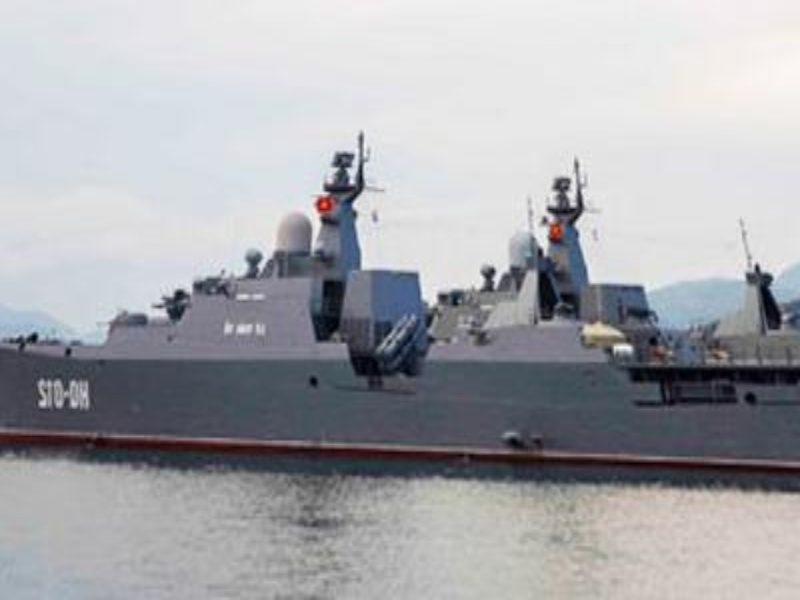cruise: (15, 147, 800, 466)
